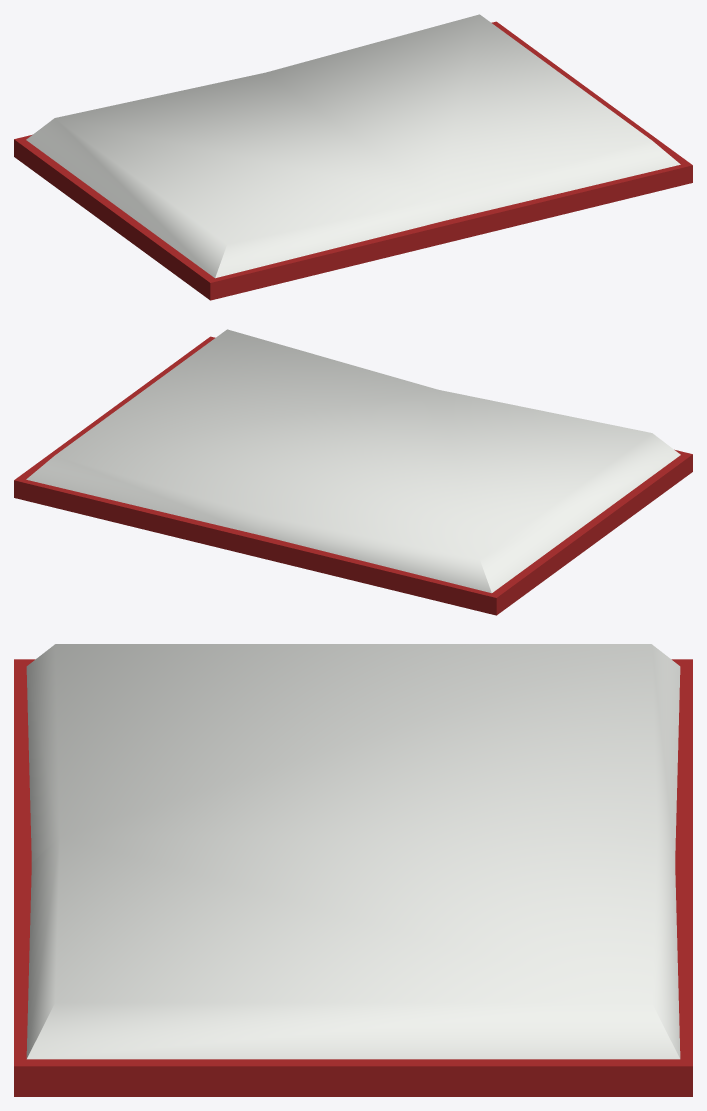
Rendered from LivroAberto.fbx.
3 views of the same model, one above another, from view 1: azimuth 30°, elevation 25°; view 2: azimuth 150°, elevation 25°; view 3: azimuth 270°, elevation 25° (orthographic). The views are drawn at different scales.
Visible parts, largest first — view 1: Cube.079; view 2: Cube.079; view 3: Cube.079.
Boxes of the visible parts, x1,y1,x2,y2 form: Cube.079: [14, 14, 692, 300]; Cube.079: [14, 329, 692, 615]; Cube.079: [14, 644, 692, 1096].
Size of the model in its own units: 0.5523 by 0.0443 by 0.3894.
